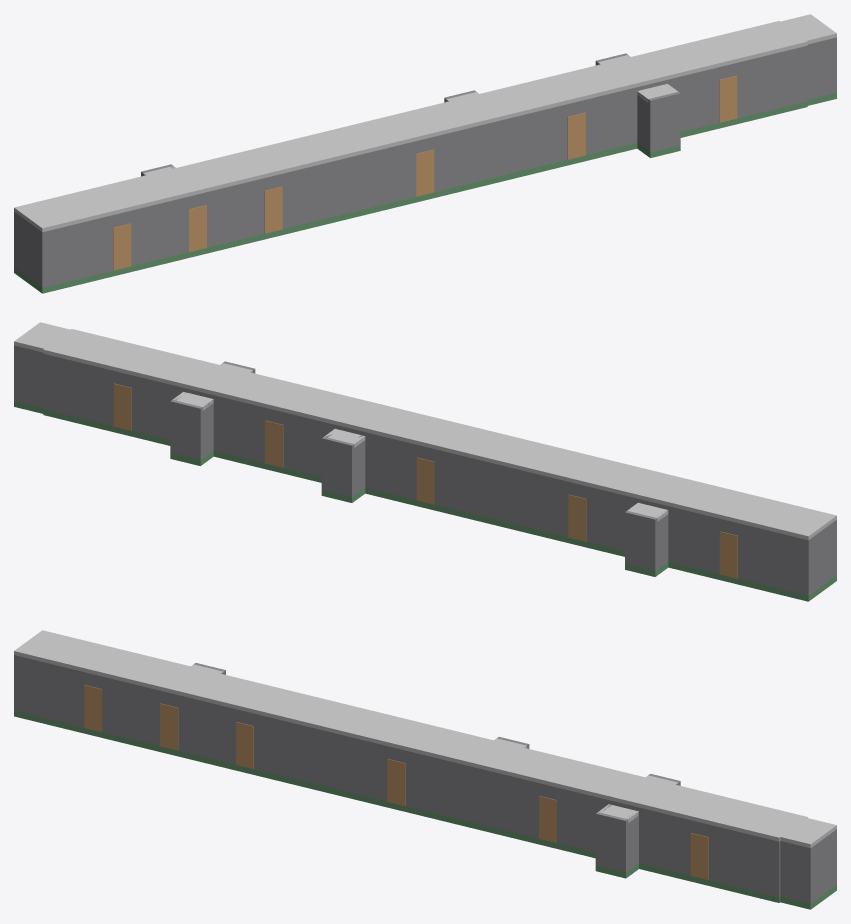
The model's file is floor_2_upper.glb.
The picture shows the model from 3 angles, top to bottom: view 1: azimuth 30°, elevation 25°; view 2: azimuth 150°, elevation 25°; view 3: azimuth 330°, elevation 25°; orthographic projection.
Parts seen in each view (by area): view 1: Corridor_Ceiling, Corridor_Wall_S_7, Corridor_Wall_S_9, Corridor_Floor, Corridor_Wall_S_1, Corridor_Wall_S_15, Corridor_Wall_S_5, Corridor_Wall_S_3, Corridor_Wall_S_11, Corridor_Wall_S_13, Alcove_Back_4, StairLanding_Wall_S_1 (+9 smaller); view 2: Corridor_Ceiling, Corridor_Wall_N_7, Corridor_Floor, Corridor_Wall_N_1, Corridor_Wall_N_17, Corridor_Wall_N_3, Corridor_Wall_N_13, Corridor_Wall_N_9, Corridor_Wall_N_15, Corridor_Wall_N_5, Corridor_Wall_N_11, Alcove_Back_2 (+13 smaller); view 3: Corridor_Ceiling, Corridor_Wall_S_9, Corridor_Wall_S_7, Corridor_Floor, Corridor_Wall_S_15, Corridor_Wall_S_1, Corridor_Wall_S_3, Corridor_Wall_S_5, Corridor_Wall_S_13, Corridor_Wall_S_11, StairLanding_Wall_S_1, Alcove_Back_4 (+9 smaller).
Part boxes in pixels (left/top/right/bottom): Corridor_Ceiling: left=14, top=21, right=807, bottom=232; Corridor_Wall_S_7: left=282, top=141, right=416, bottom=228; Corridor_Wall_S_9: left=434, top=104, right=567, bottom=191; Corridor_Floor: left=14, top=101, right=807, bottom=293; Corridor_Wall_S_1: left=40, top=215, right=112, bottom=287; Corridor_Wall_S_15: left=737, top=45, right=807, bottom=117; Corridor_Wall_S_5: left=206, top=178, right=264, bottom=247; Corridor_Wall_S_3: left=131, top=196, right=188, bottom=265; Corridor_Wall_S_11: left=585, top=85, right=644, bottom=154; Corridor_Wall_S_13: left=660, top=67, right=719, bottom=131; Alcove_Back_4: left=648, top=92, right=680, bottom=152; StairLanding_Wall_S_1: left=807, top=37, right=836, bottom=99; Corridor_Ceiling: left=43, top=329, right=836, bottom=540; Corridor_Wall_N_7: left=434, top=449, right=568, bottom=536; Corridor_Floor: left=43, top=409, right=836, bottom=601; Corridor_Wall_N_1: left=738, top=523, right=810, bottom=595; Corridor_Wall_N_17: left=43, top=353, right=113, bottom=425; Corridor_Wall_N_3: left=660, top=504, right=719, bottom=573; Corridor_Wall_N_13: left=210, top=394, right=265, bottom=462; Corridor_Wall_N_9: left=361, top=431, right=416, bottom=499; Corridor_Wall_N_15: left=131, top=375, right=187, bottom=439; Corridor_Wall_N_5: left=586, top=486, right=645, bottom=550; Corridor_Wall_N_11: left=283, top=412, right=338, bottom=476; Alcove_Back_2: left=321, top=437, right=354, bottom=496; Corridor_Ceiling: left=14, top=630, right=807, bottom=841; Corridor_Wall_S_9: left=405, top=750, right=539, bottom=838; Corridor_Wall_S_7: left=254, top=713, right=387, bottom=801; Corridor_Floor: left=14, top=710, right=780, bottom=902; Corridor_Wall_S_15: left=708, top=824, right=780, bottom=896; Corridor_Wall_S_1: left=14, top=655, right=84, bottom=727; Corridor_Wall_S_3: left=102, top=676, right=160, bottom=745; Corridor_Wall_S_5: left=178, top=695, right=236, bottom=764; Corridor_Wall_S_13: left=631, top=806, right=690, bottom=875; Corridor_Wall_S_11: left=557, top=787, right=616, bottom=852; StairLanding_Wall_S_1: left=780, top=841, right=812, bottom=903; Alcove_Back_4: left=595, top=812, right=628, bottom=872.
Size of the model in its own units: 42 by 3.3 by 5.
